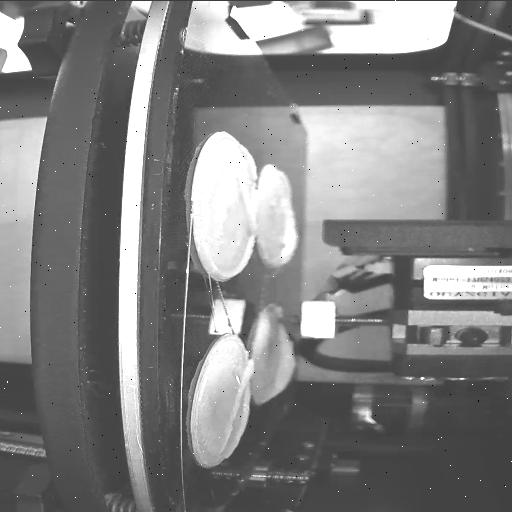over_extrusion: (218, 358, 257, 452), (202, 234, 256, 278), (234, 144, 258, 230), (270, 212, 302, 268), (266, 338, 292, 400), (279, 172, 293, 200)
